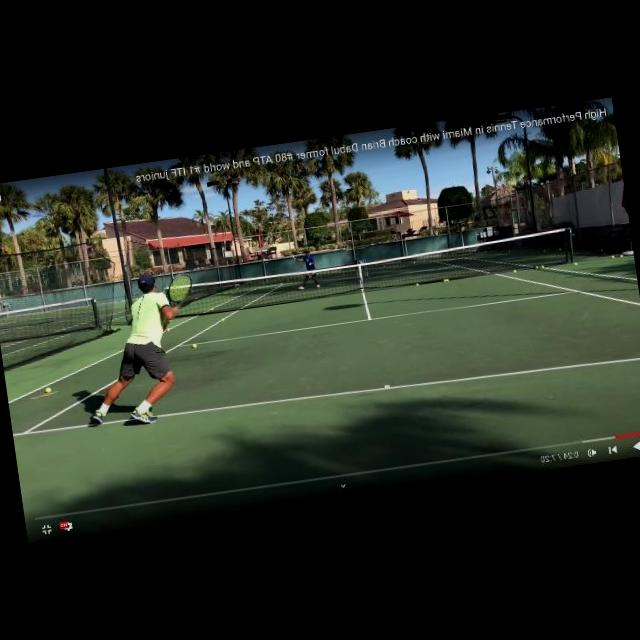Tennis Ball: (46, 387, 51, 393), (193, 343, 198, 348), (513, 270, 516, 274), (620, 255, 623, 258), (574, 263, 577, 266), (167, 328, 170, 331), (540, 266, 544, 268), (222, 318, 224, 322), (444, 279, 446, 282), (611, 256, 614, 258), (416, 284, 419, 286), (537, 266, 539, 268), (446, 279, 448, 281)
